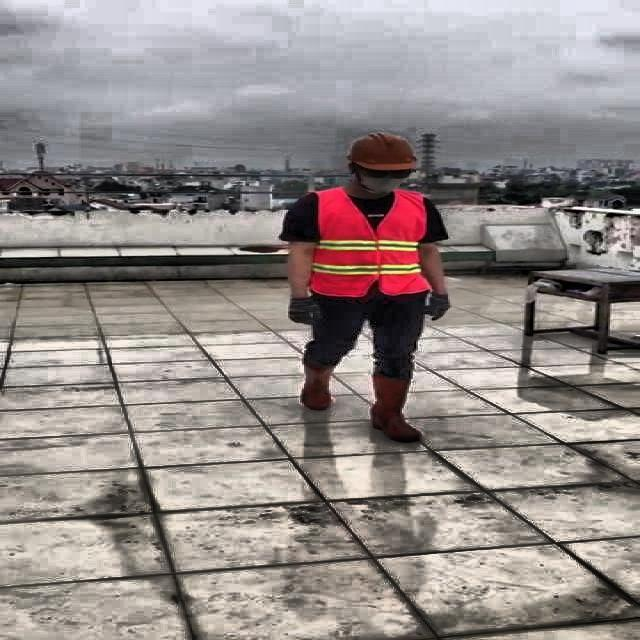safety_helmet: (342, 132, 419, 172)
safety_jacket: (313, 187, 432, 294)
